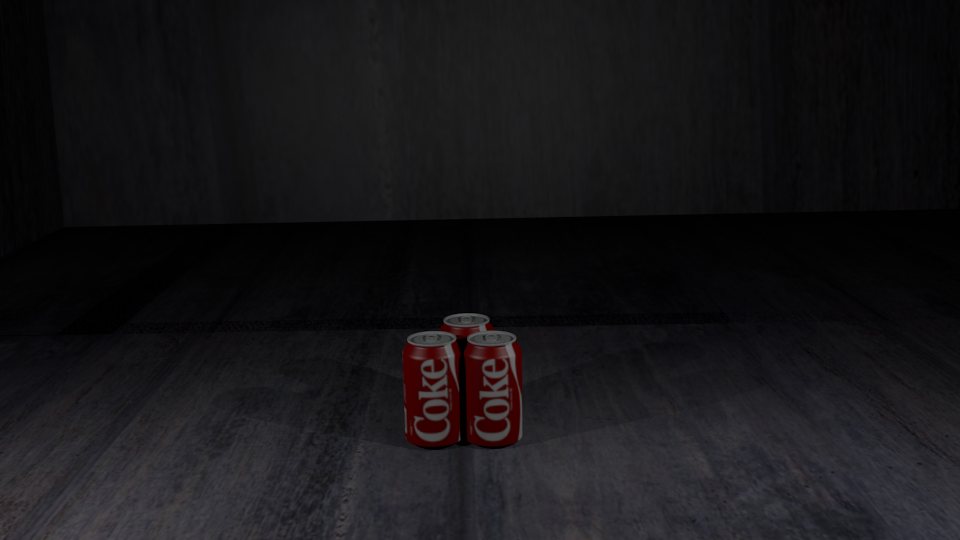cola_can: (402, 331, 462, 444), (462, 331, 521, 442), (439, 314, 494, 420)
